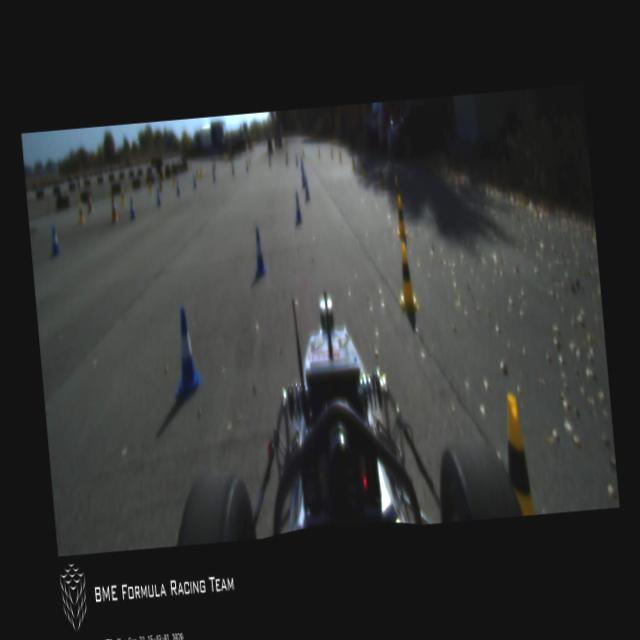blue_cone: (167, 305, 203, 404), (250, 226, 268, 279), (292, 190, 302, 224), (50, 225, 60, 258), (302, 176, 310, 202), (128, 196, 136, 221), (155, 185, 161, 208), (300, 167, 306, 187), (230, 160, 236, 177), (174, 180, 180, 196), (191, 172, 197, 188), (298, 154, 304, 170), (211, 167, 216, 182), (267, 154, 272, 167), (244, 158, 248, 172), (294, 154, 298, 168), (284, 151, 288, 165)
orange_cone: (108, 194, 118, 224), (86, 192, 94, 212)
yellow_cone: (501, 392, 536, 516), (394, 242, 418, 314), (393, 196, 408, 241), (392, 176, 402, 207), (76, 203, 85, 226), (361, 156, 367, 176), (378, 165, 383, 188), (120, 186, 126, 205), (350, 153, 356, 170), (147, 180, 152, 194), (338, 149, 343, 163), (316, 144, 321, 158), (329, 146, 334, 159), (300, 145, 304, 158)
